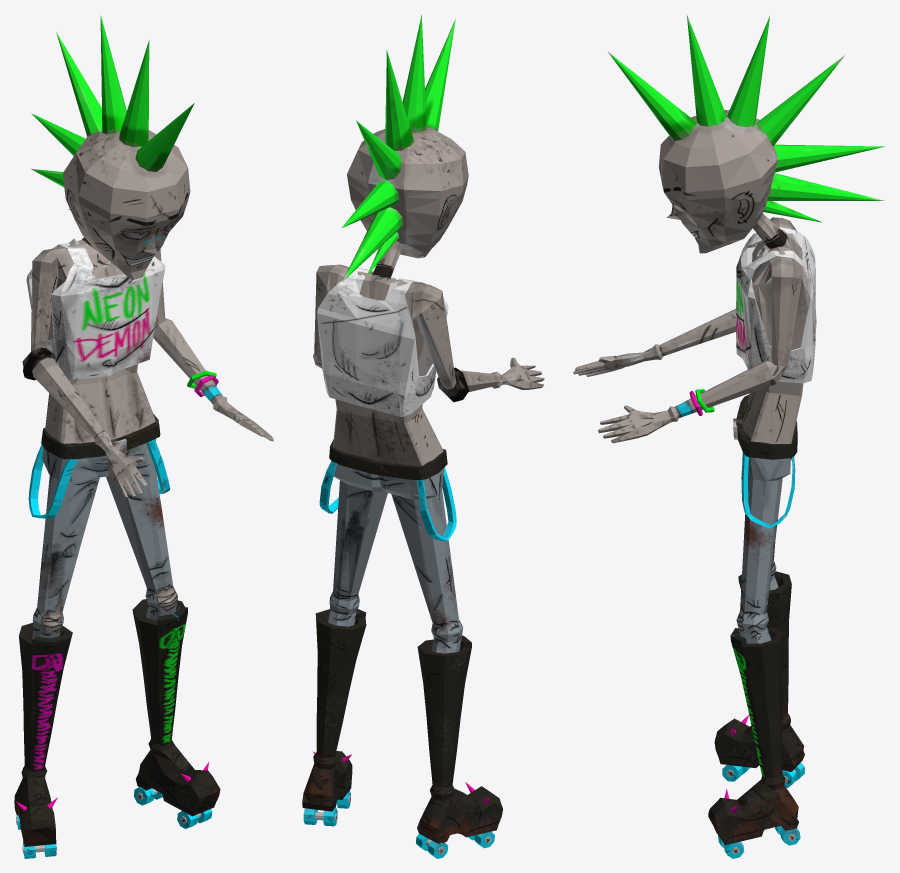
The model's file is punkAnimation_000029.obj.
3 views of the same model, side by side, from view 1: azimuth 30°, elevation 25°; view 2: azimuth 150°, elevation 25°; view 3: azimuth 270°, elevation 25° (orthographic). The views are drawn at different scales.
Parts seen in each view (by area): view 1: Cube.004_Cube.003; view 2: Cube.004_Cube.003; view 3: Cube.004_Cube.003.
Boxes of the visible parts, x1,y1,x2,y2 form: Cube.004_Cube.003: (14,15,273,858); Cube.004_Cube.003: (302,15,544,858); Cube.004_Cube.003: (573,14,884,858).
Size of the model in its own units: 1.85 by 7.55 by 2.66.
